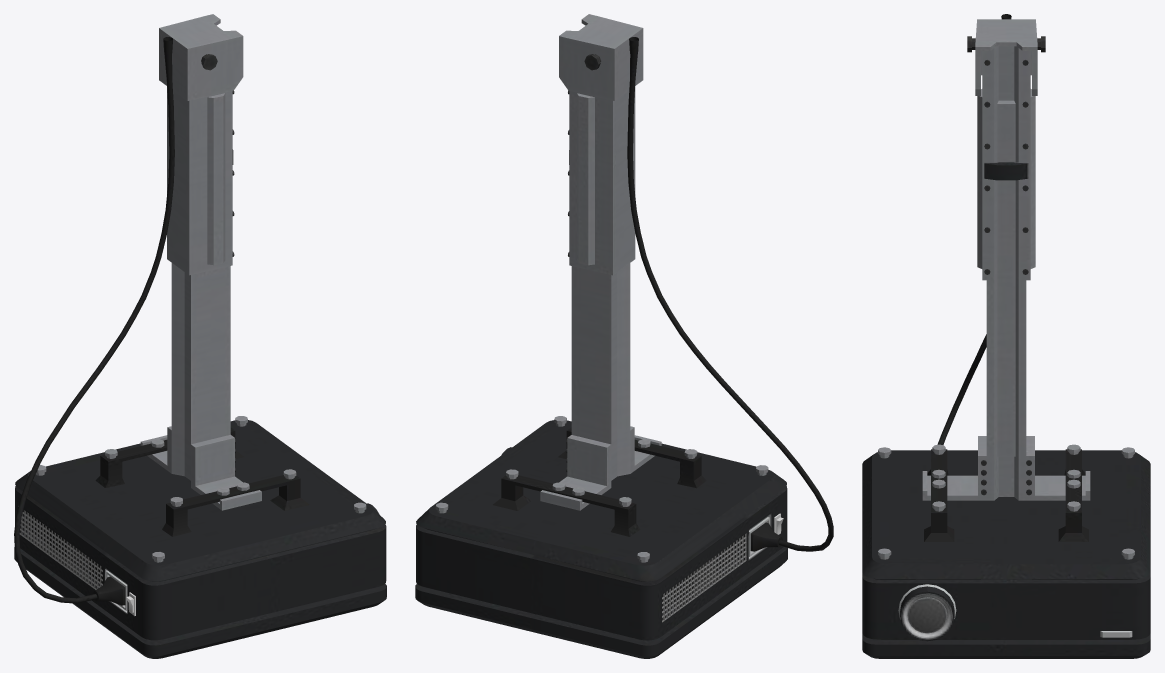
The model's file is prop_projector.glb.
3 renders of one model, left to right at view 1: azimuth 30°, elevation 25°; view 2: azimuth 150°, elevation 25°; view 3: azimuth 270°, elevation 25°, orthographic. The views are drawn at different scales.
Visible parts, largest first — view 1: base_low__0; view 2: base_low__0; view 3: base_low__0.
Part boxes in pixels (left/top/right/bottom): base_low__0: left=14, top=14, right=386, bottom=658; base_low__0: left=415, top=14, right=833, bottom=658; base_low__0: left=862, top=14, right=1150, bottom=658.
Size of the model in its own units: 2.81 by 4.36 by 2.
2 materials, 1 textured.
